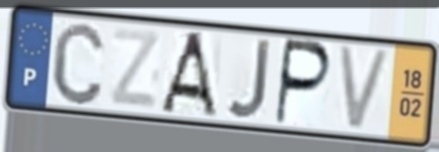A: (157, 29, 220, 121)
C: (49, 18, 108, 109)
J: (224, 37, 274, 122)
P: (272, 36, 335, 129)
V: (335, 42, 395, 134)
Z: (107, 25, 163, 112)
